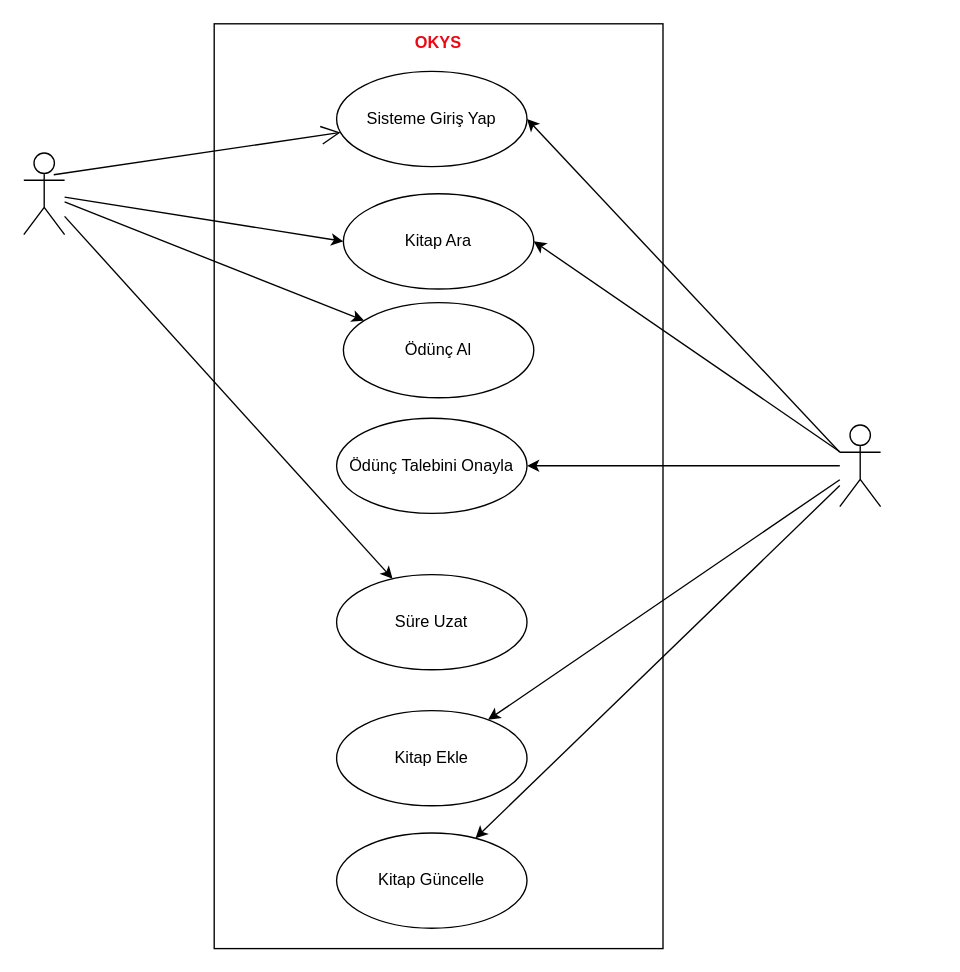
This 960x972 diagram has some shape labels left out. Here are the shapes that lost their labels. From the top down, the centre of each, then its label:
At [43,193]: "Üye".
At [859,465]: "Kütüphane Yöneticisi".
